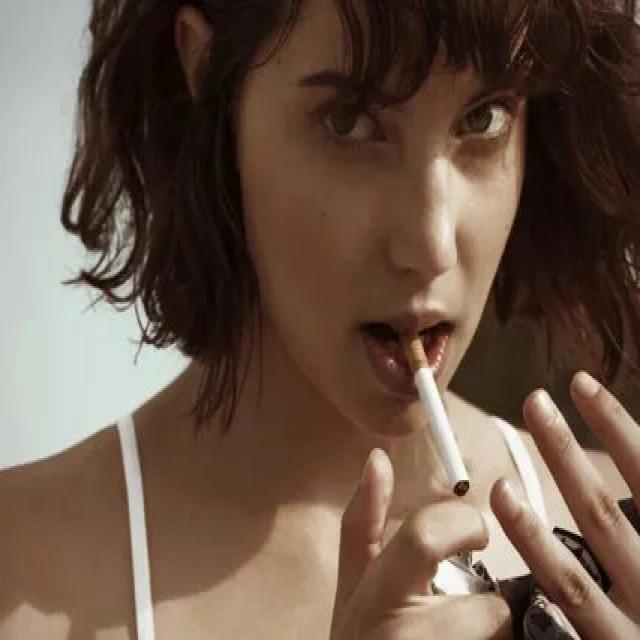smoke: (400, 330, 475, 504)
